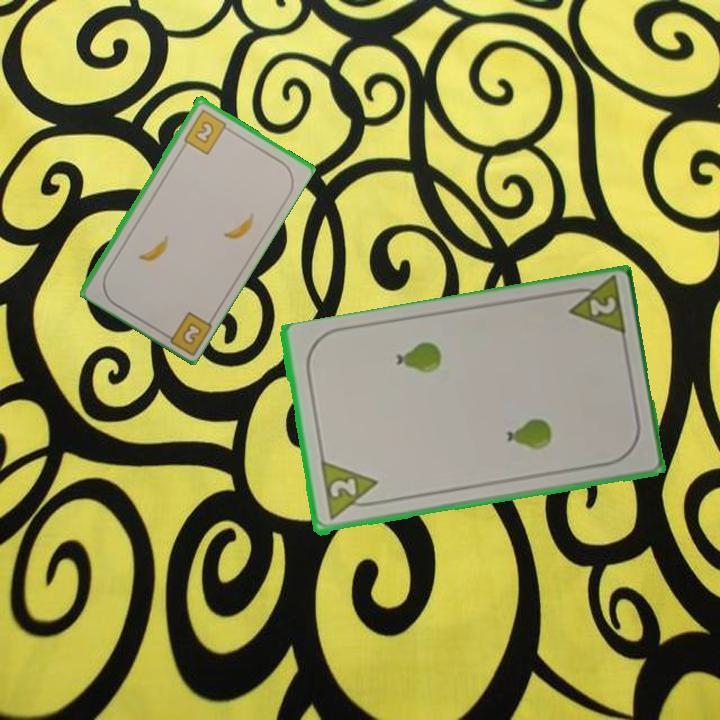2b: (180, 105, 234, 157), (158, 308, 214, 356)
2p: (560, 275, 629, 340), (316, 459, 383, 524)
